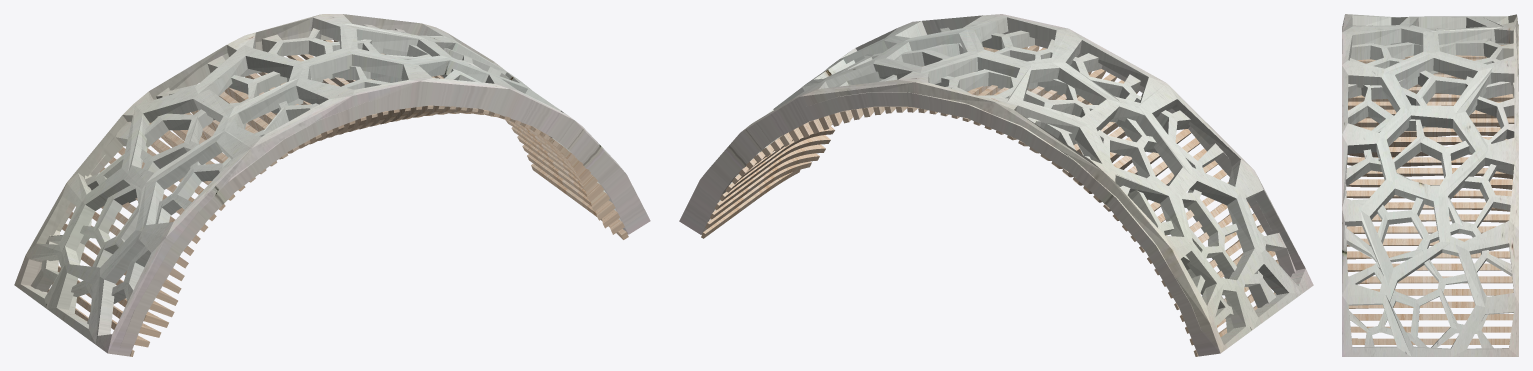
The model's file is prefinal.glb.
The picture shows the model from 3 angles, left to right: view 1: azimuth 30°, elevation 25°; view 2: azimuth 150°, elevation 25°; view 3: azimuth 270°, elevation 25°; orthographic projection. The views are drawn at different scales.
Visible parts, largest first — view 1: [0]; view 2: [0]; view 3: [0].
Boxes of the visible parts, bbox=[...] form: [0]: bbox=[14, 14, 650, 356]; [0]: bbox=[679, 14, 1313, 356]; [0]: bbox=[1342, 14, 1518, 356].
Size of the model in its own units: 8.18 by 3.03 by 2.44.
Materials: 2 (2 with a texture image).
